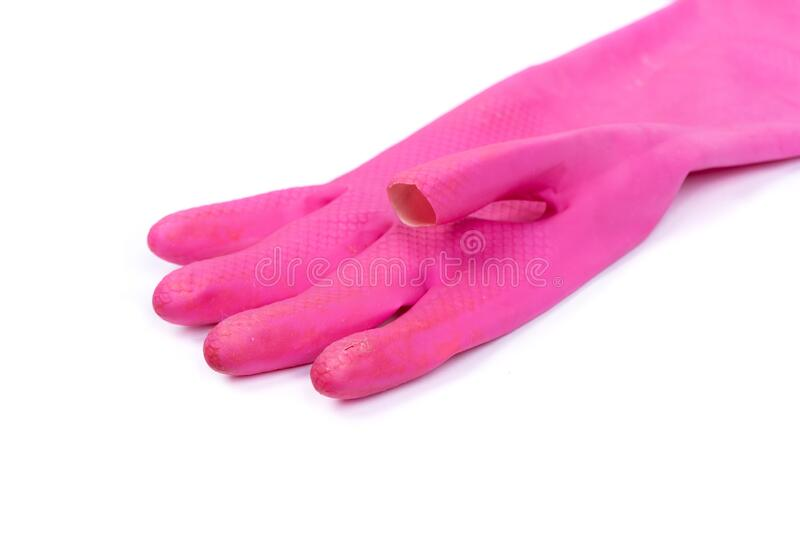defected: (115, 120, 743, 413)
